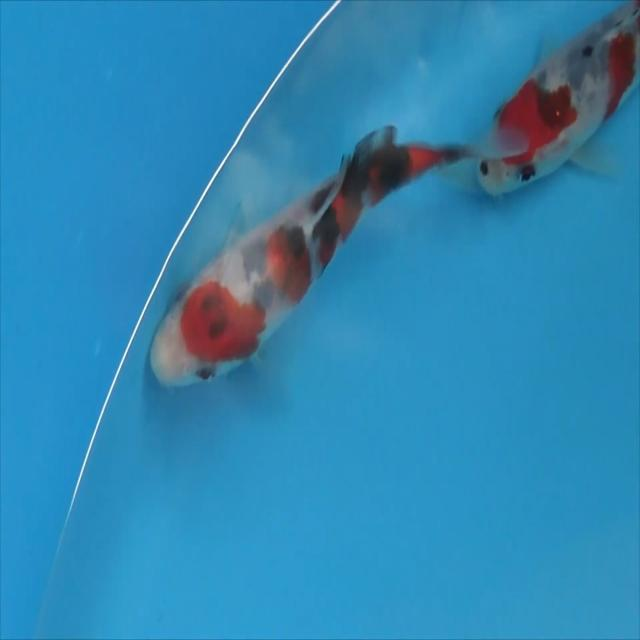Sanke: (144, 121, 481, 392), (475, 1, 639, 198)
